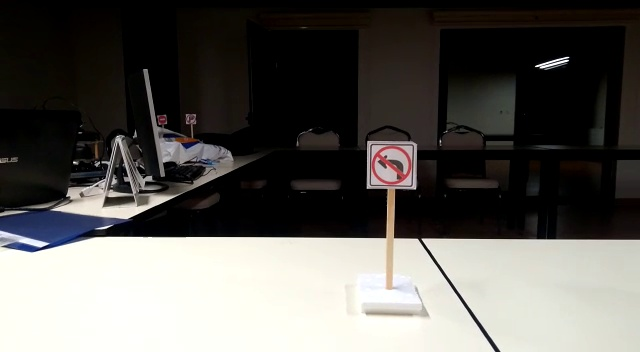sola_donulmez: (367, 143, 416, 190)
